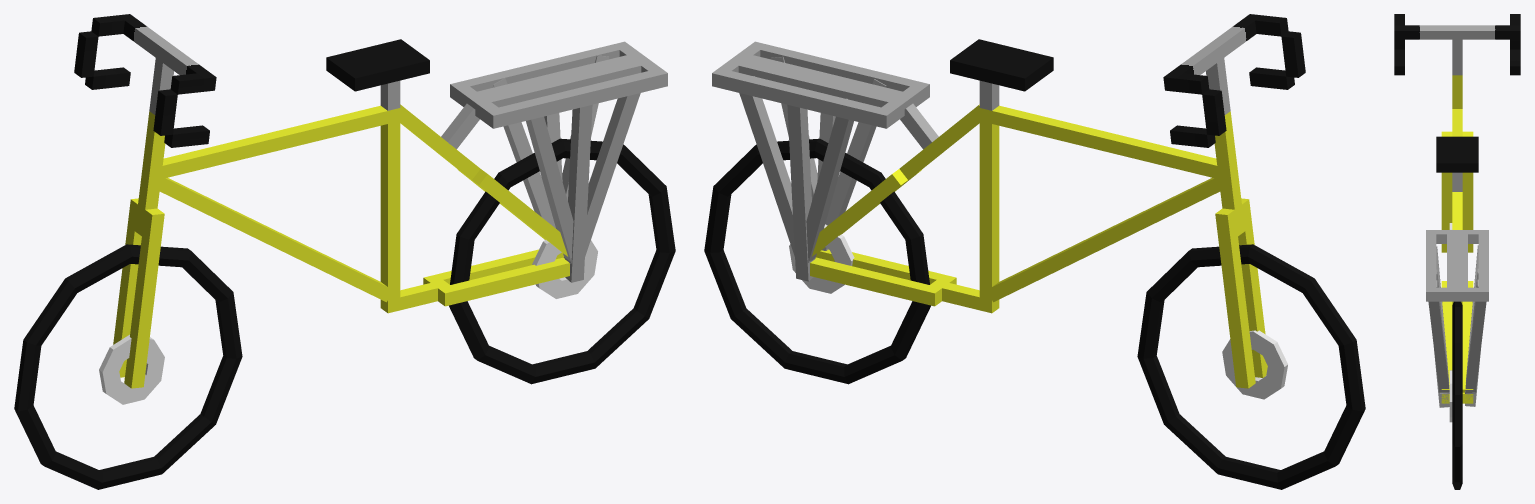
The model's file is Bicycle.fbx.
3 renders of one model, left to right at view 1: azimuth 30°, elevation 25°; view 2: azimuth 150°, elevation 25°; view 3: azimuth 270°, elevation 25°, orthographic. The views are drawn at different scales.
Visible parts, largest first — view 1: Frame, WheelFront, WheelFront_1, Handle, Frame_1, Saddle, Frame_18, Frame_19, Frame_17, Frame_25, Frame_23, BrakeDisc (+7 smaller); view 2: Frame, WheelFront, WheelFront_1, Handle, Frame_2, Saddle, Frame_18, Frame_16, Frame_20, Frame_24, Frame_22, BrakeDisc (+7 smaller); view 3: Handle, Frame, WheelFront_1, Saddle, Frame_18, Frame_24, Frame_25, Frame_15, Frame_2, Frame_1, Frame_16, Frame_17 (+8 smaller).
Boxes of the visible parts, x1=… form: Frame: x1=135, y1=104, x2=569, y2=313; WheelFront: x1=14, y1=244, x2=242, y2=489; WheelFront_1: x1=449, y1=138, x2=675, y2=384; Handle: x1=74, y1=14, x2=216, y2=147; Frame_1: x1=124, y1=208, x2=164, y2=388; Saddle: x1=326, y1=39, x2=429, y2=91; Frame_18: x1=477, y1=55, x2=641, y2=107; Frame_19: x1=565, y1=104, x2=592, y2=282; Frame_17: x1=499, y1=71, x2=655, y2=125; Frame_25: x1=563, y1=93, x2=640, y2=263; Frame_23: x1=526, y1=116, x2=573, y2=262; BrakeDisc: x1=99, y1=334, x2=164, y2=404; Frame: x1=810, y1=104, x2=1244, y2=313; WheelFront: x1=1137, y1=244, x2=1365, y2=489; WheelFront_1: x1=704, y1=138, x2=930, y2=384; Handle: x1=1163, y1=14, x2=1305, y2=147; Frame_2: x1=1215, y1=208, x2=1255, y2=388; Saddle: x1=950, y1=39, x2=1053, y2=91; Frame_18: x1=738, y1=55, x2=902, y2=107; Frame_16: x1=724, y1=71, x2=880, y2=125; Frame_20: x1=787, y1=104, x2=814, y2=281; Frame_24: x1=739, y1=76, x2=810, y2=261; Frame_22: x1=806, y1=98, x2=853, y2=262; BrakeDisc: x1=1222, y1=330, x2=1287, y2=399; Handle: x1=1394, y1=14, x2=1520, y2=75; Frame: x1=1441, y1=75, x2=1473, y2=403; WheelFront_1: x1=1452, y1=301, x2=1462, y2=489; Saddle: x1=1436, y1=136, x2=1478, y2=172; Frame_18: x1=1447, y1=234, x2=1467, y2=287; Frame_24: x1=1465, y1=279, x2=1486, y2=393; Frame_25: x1=1428, y1=280, x2=1449, y2=393; Frame_15: x1=1426, y1=287, x2=1488, y2=301; Frame_2: x1=1462, y1=131, x2=1473, y2=252; Frame_1: x1=1441, y1=131, x2=1452, y2=252; Frame_16: x1=1478, y1=234, x2=1488, y2=287; Frame_17: x1=1426, y1=234, x2=1436, y2=287.
Bounding box in the file's own units: 329 × 205 × 75.
Materials: 6 (6 with a texture image).
